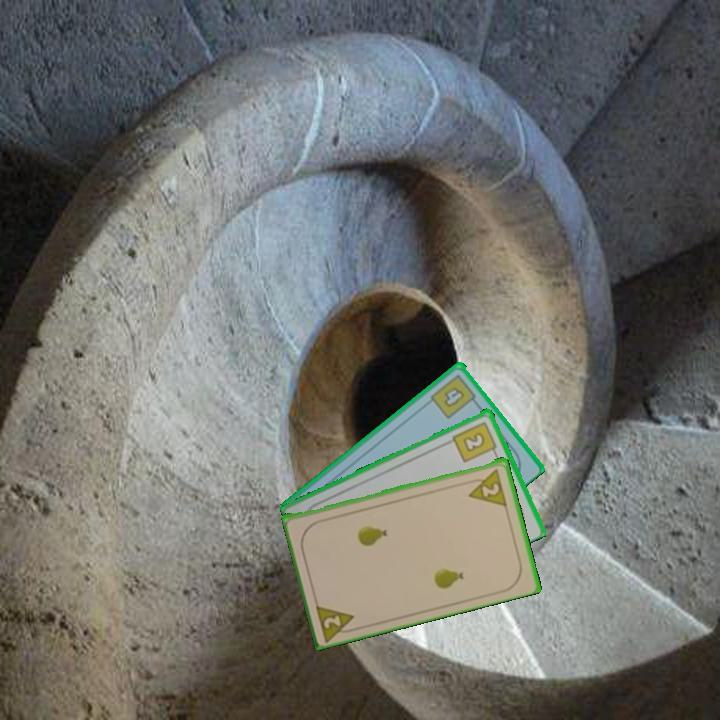2b: (449, 418, 500, 465)
2p: (312, 599, 361, 643), (463, 465, 510, 508)
4b: (427, 370, 481, 421)
